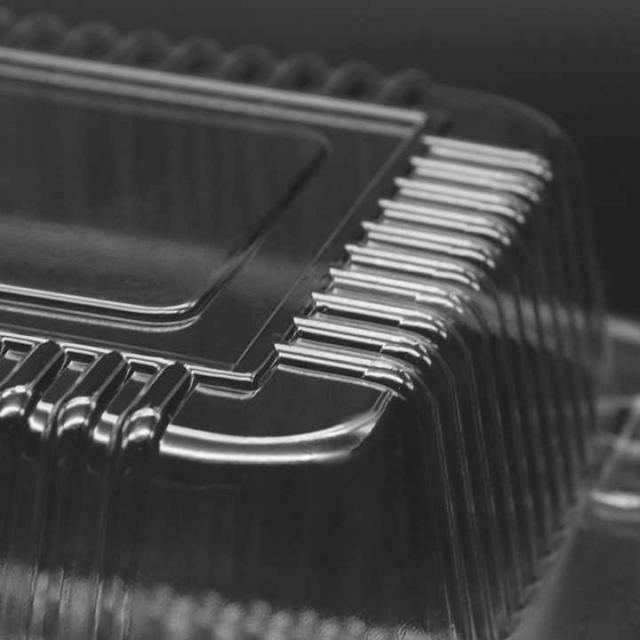plastic_box: (4, 3, 633, 640)
